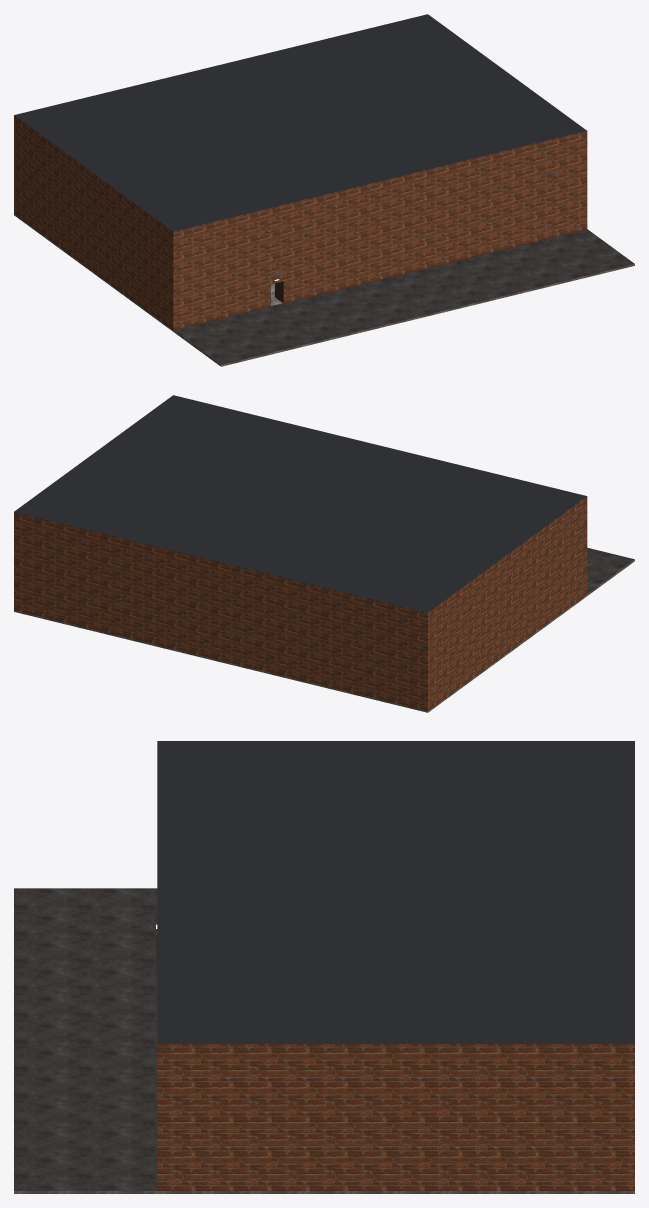
The model's file is building.glb.
The picture shows the model from 3 angles, top to bottom: view 1: azimuth 30°, elevation 25°; view 2: azimuth 150°, elevation 25°; view 3: azimuth 270°, elevation 25°; orthographic projection. The views are drawn at different scales.
Visible parts, largest first — view 1: ROOF, BAKE_F1, BAKE_F3, BAKE_F2; view 2: ROOF, BAKE_F1, BAKE_F2, BAKE_F3; view 3: ROOF, BAKE_F1, BAKE_F2, BAKE_F3.
Part boxes in pixels (left/top/right/bottom): ROOF: left=14, top=14, right=586, bottom=231; BAKE_F1: left=14, top=181, right=634, bottom=366; BAKE_F3: left=14, top=115, right=587, bottom=265; BAKE_F2: left=14, top=148, right=587, bottom=298; ROOF: left=14, top=395, right=586, bottom=612; BAKE_F1: left=14, top=547, right=634, bottom=712; BAKE_F2: left=14, top=529, right=587, bottom=677; BAKE_F3: left=14, top=496, right=587, bottom=647; ROOF: left=157, top=741, right=634, bottom=1043; BAKE_F1: left=14, top=888, right=634, bottom=1193; BAKE_F2: left=157, top=1093, right=634, bottom=1144; BAKE_F3: left=157, top=1044, right=634, bottom=1095.
Size of the model in its own units: 45 by 10.4 by 39.
Materials: 68 (20 with a texture image).
